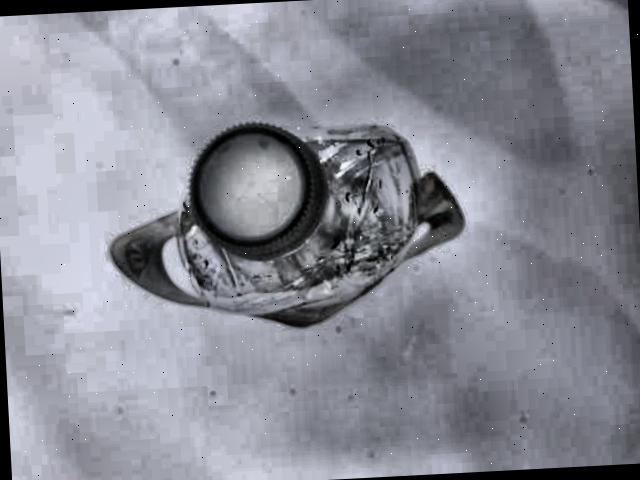Bottles: (88, 106, 476, 340)
